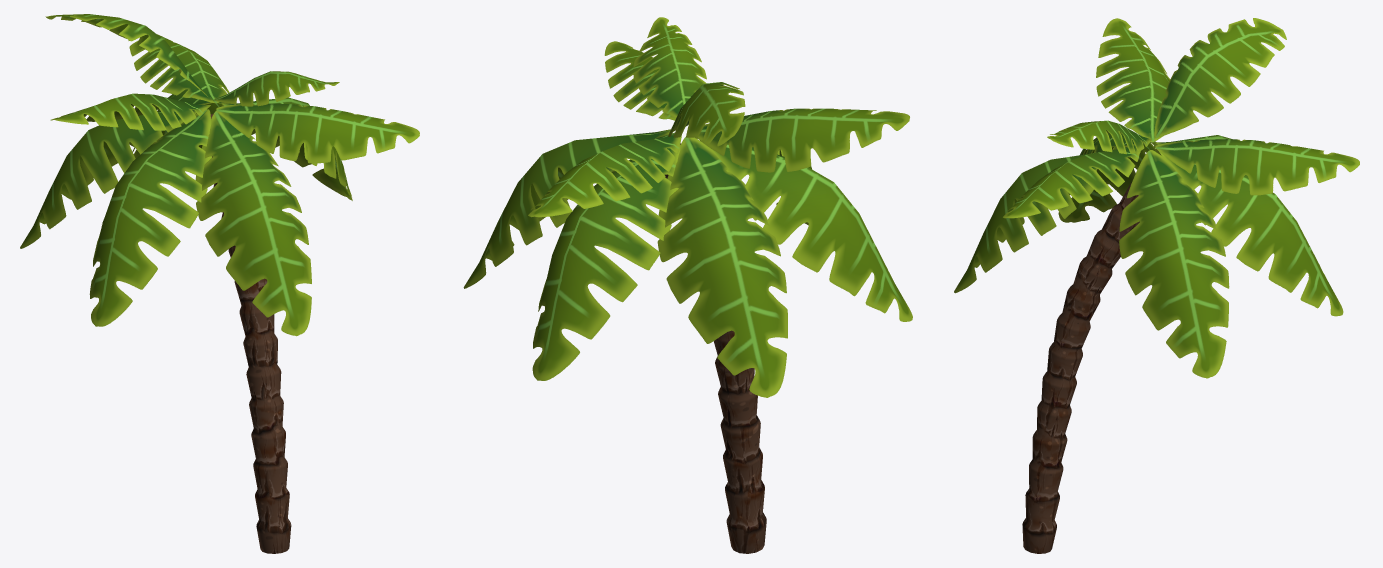
Rendered from PalmTreeFinal.fbx.
3 views of the same model, side by side, from view 1: azimuth 30°, elevation 25°; view 2: azimuth 150°, elevation 25°; view 3: azimuth 270°, elevation 25° (orthographic). The views are drawn at different scales.
Parts seen in each view (by area): view 1: Plane.004, Plane.005, Cylinder.003, Plane.006, Plane.007; view 2: Plane.004, Plane.005, Cylinder.003, Plane.006, Plane.007; view 3: Plane.004, Plane.005, Cylinder.003, Plane.007, Plane.006.
Part boxes in pixels (left/top/right/bottom): Plane.004: left=20, top=89, right=352, bottom=336; Plane.005: left=50, top=34, right=419, bottom=163; Cylinder.003: left=210, top=113, right=291, bottom=553; Plane.006: left=213, top=71, right=339, bottom=106; Plane.007: left=45, top=14, right=208, bottom=97; Plane.004: left=463, top=129, right=912, bottom=397; Plane.005: left=528, top=41, right=909, bottom=217; Cylinder.003: left=665, top=143, right=766, bottom=553; Plane.006: left=633, top=17, right=706, bottom=118; Plane.007: left=668, top=82, right=745, bottom=146; Plane.004: left=954, top=133, right=1343, bottom=378; Plane.005: left=1003, top=18, right=1359, bottom=218; Cylinder.003: left=1022, top=182, right=1139, bottom=553; Plane.007: left=1154, top=18, right=1286, bottom=137; Plane.006: left=1047, top=120, right=1151, bottom=154.
Size of the model in its own units: 625 by 820 by 650.
